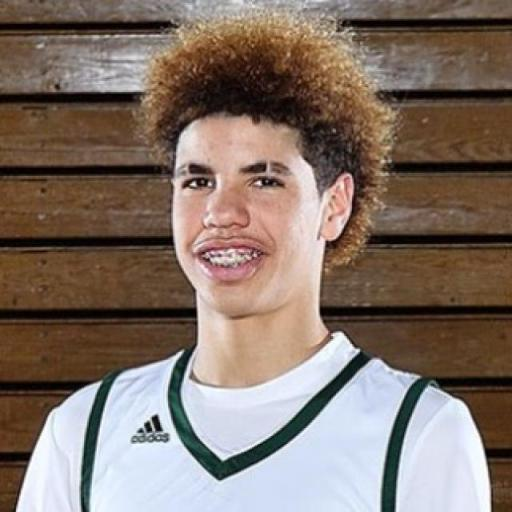Adidas: (126, 412, 173, 447)
